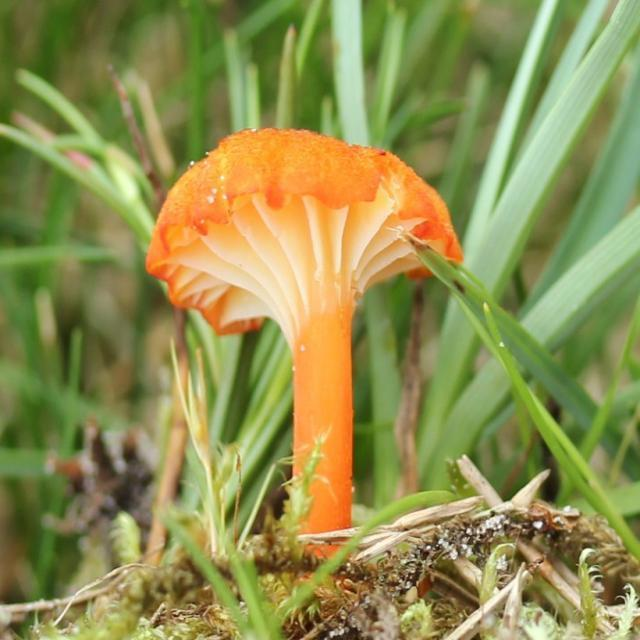Cantharellus cibarius: (145, 131, 464, 540)
